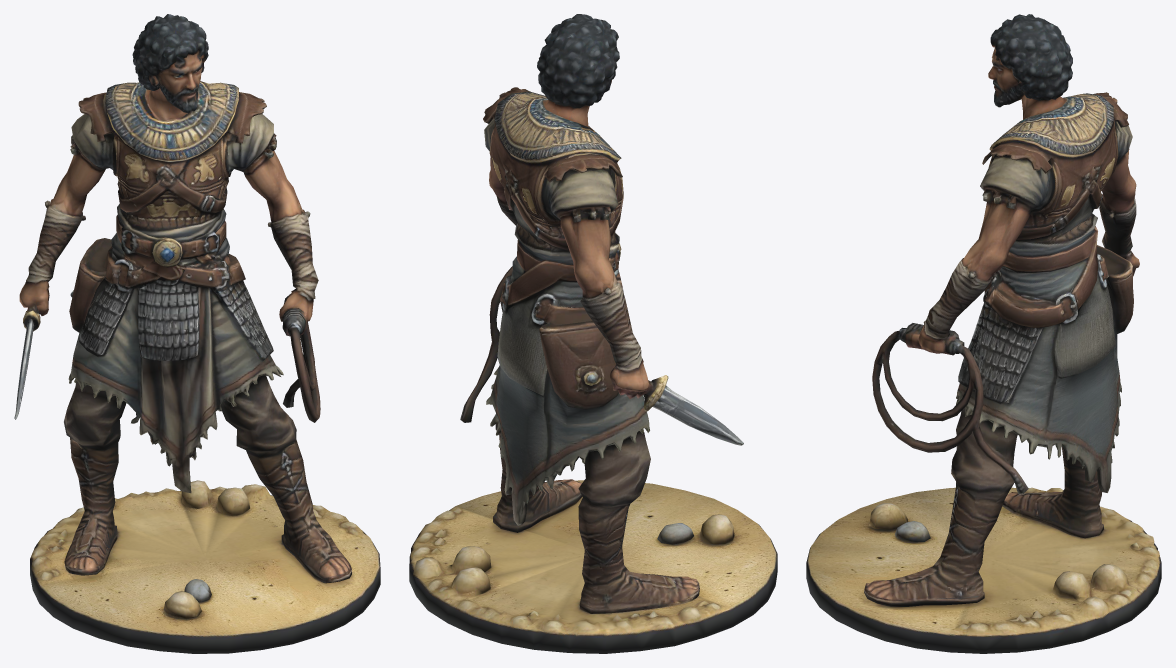
File: thief_alt2_male.glb
The picture shows the model from 3 angles, left to right: view 1: azimuth 30°, elevation 25°; view 2: azimuth 150°, elevation 25°; view 3: azimuth 270°, elevation 25°; orthographic projection. The views are drawn at different scales.
Parts seen in each view (by area): view 1: tripo_node_d473072d-469f-4b0d-b992-7a3a8ff41927; view 2: tripo_node_d473072d-469f-4b0d-b992-7a3a8ff41927; view 3: tripo_node_d473072d-469f-4b0d-b992-7a3a8ff41927.
Part boxes in pixels (box(x1,y1,x2,y2)): tripo_node_d473072d-469f-4b0d-b992-7a3a8ff41927: box(14, 14, 380, 653); tripo_node_d473072d-469f-4b0d-b992-7a3a8ff41927: box(409, 14, 777, 653); tripo_node_d473072d-469f-4b0d-b992-7a3a8ff41927: box(806, 14, 1161, 653).
Size of the model in its own units: 0.6074 by 0.998 by 0.5801.
Materials: 1 (1 with a texture image).
